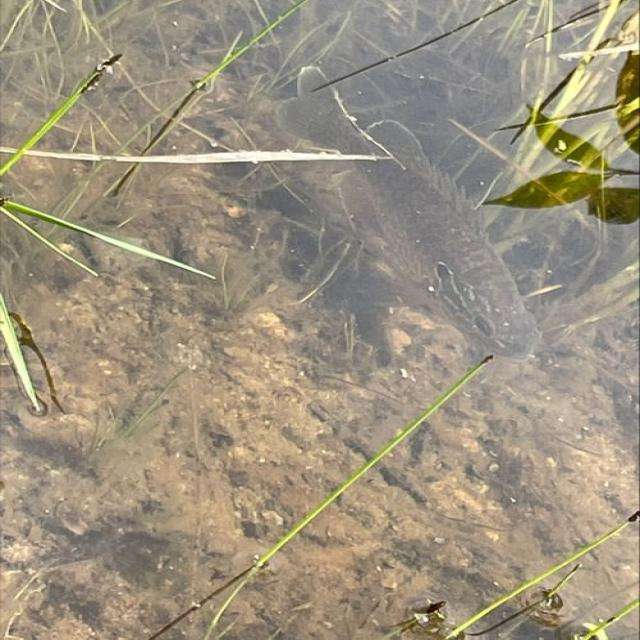Gunes Levregi: (269, 56, 547, 369)
